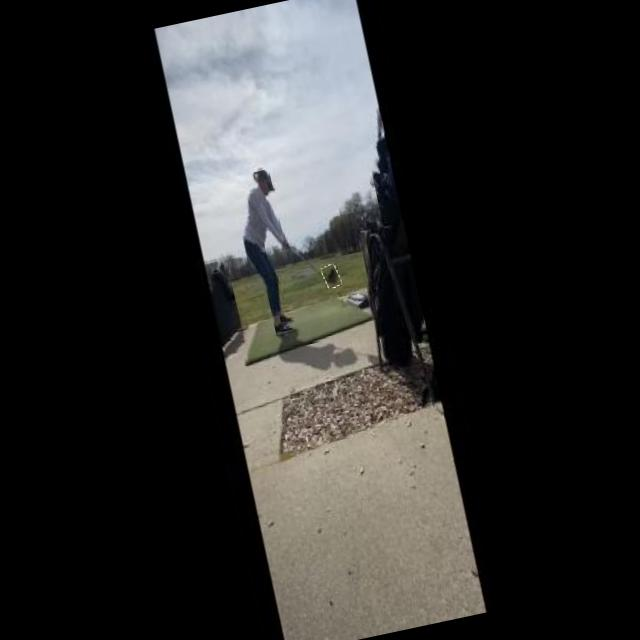club head: (321, 262, 342, 289)
